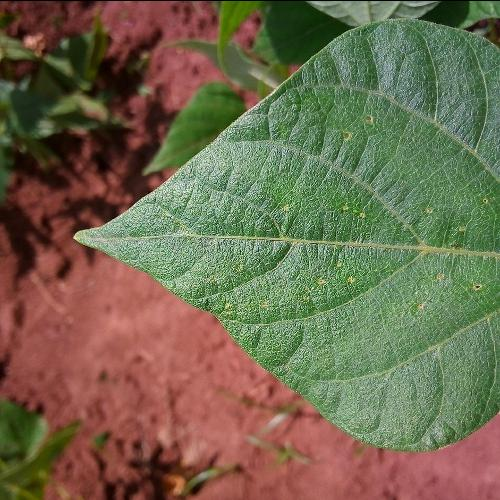hawar: (217, 194, 384, 326), (405, 186, 493, 350), (330, 106, 389, 156)
